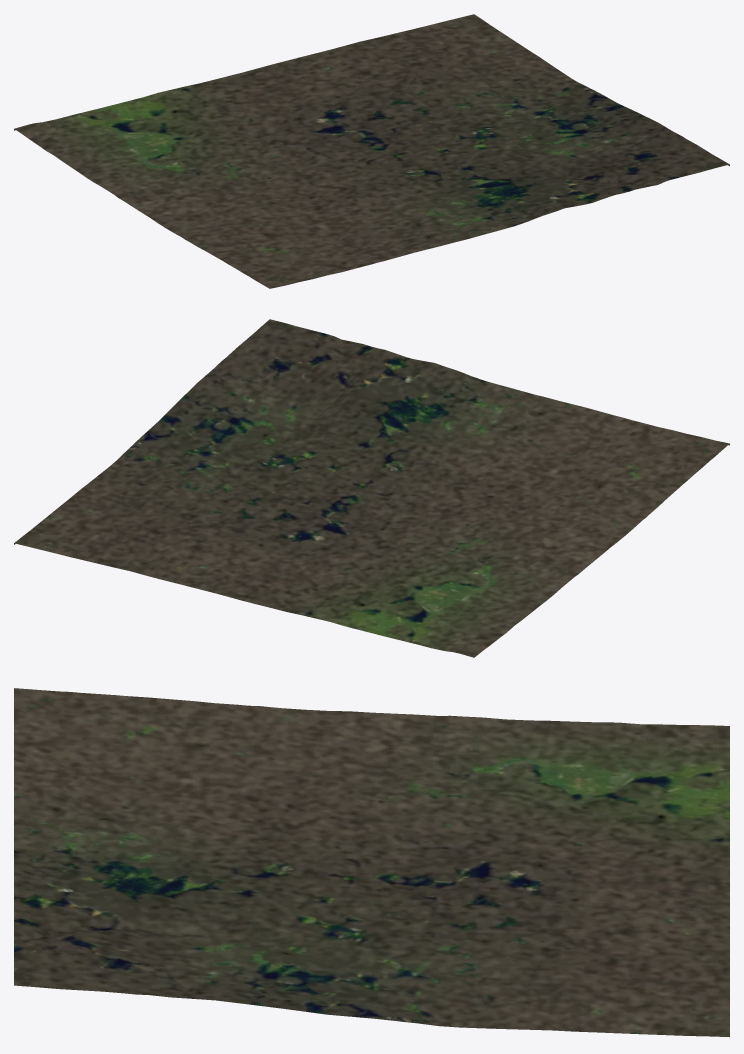
3 renders of one model, top to bottom at view 1: azimuth 30°, elevation 25°; view 2: azimuth 150°, elevation 25°; view 3: azimuth 270°, elevation 25°, orthographic. The views are drawn at different scales.
Bounding box in the file's own units: 250 × 21.76 × 241.
Materials: 1 (1 with a texture image).
